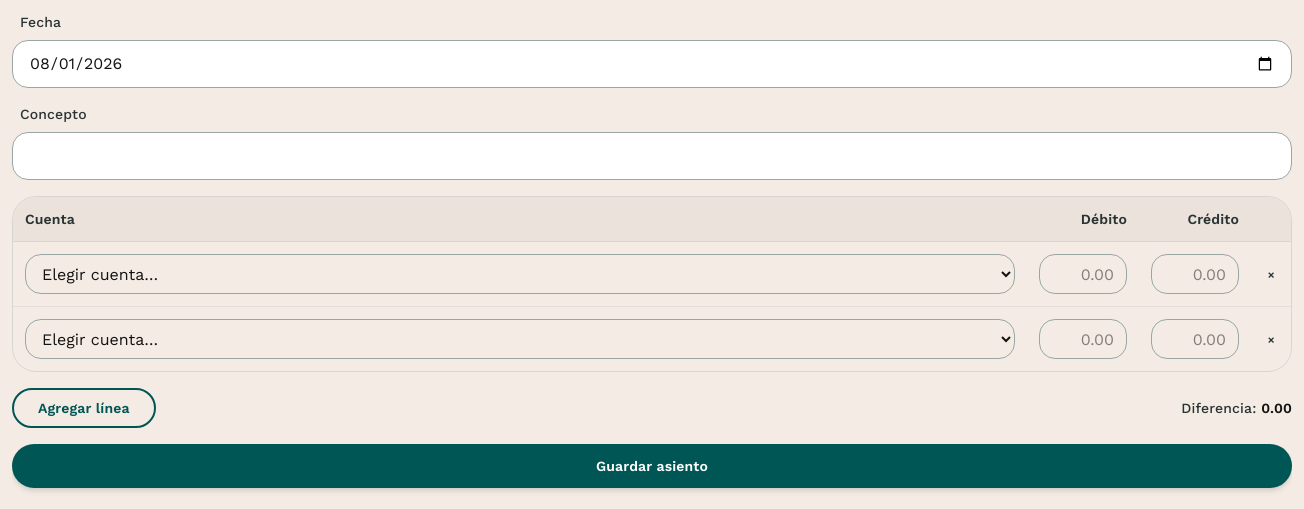
it: ManualEntryForm — live difference (US3, T019) › shows a live non-zero difference while editing
Type "75" into the field named "Débito" at [1083, 274], box left=1039, top=254, right=1127, bottom=294
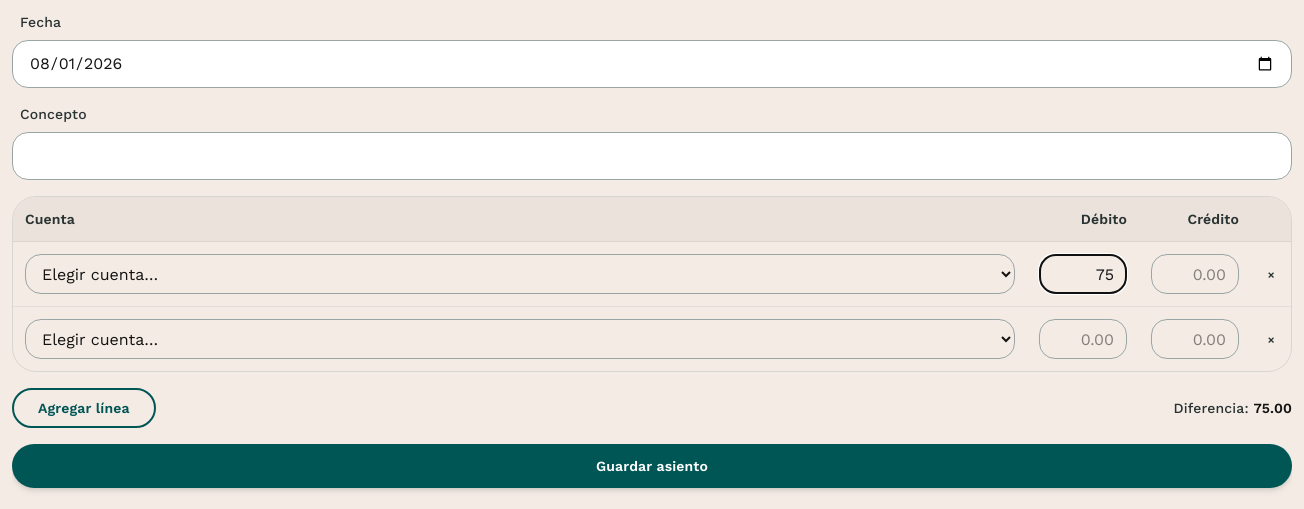
Type "25" into the field named "Crédito" at [1195, 339], box left=1151, top=319, right=1239, bottom=359
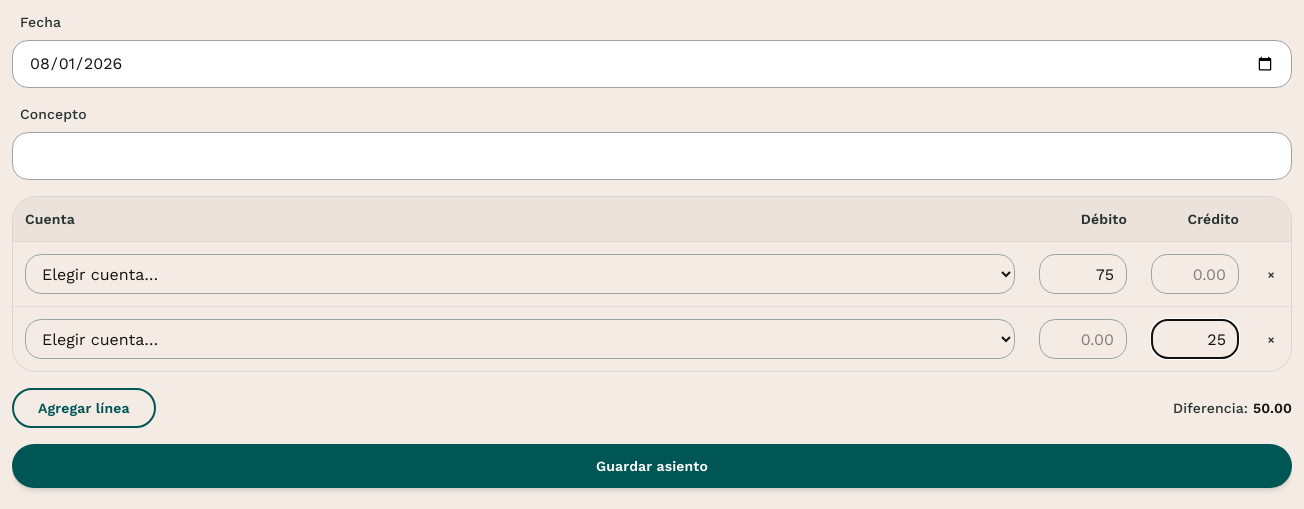
Check: the element with test id "manual-entry-difference" shows "50.00", box left=1253, top=400, right=1292, bottom=416
